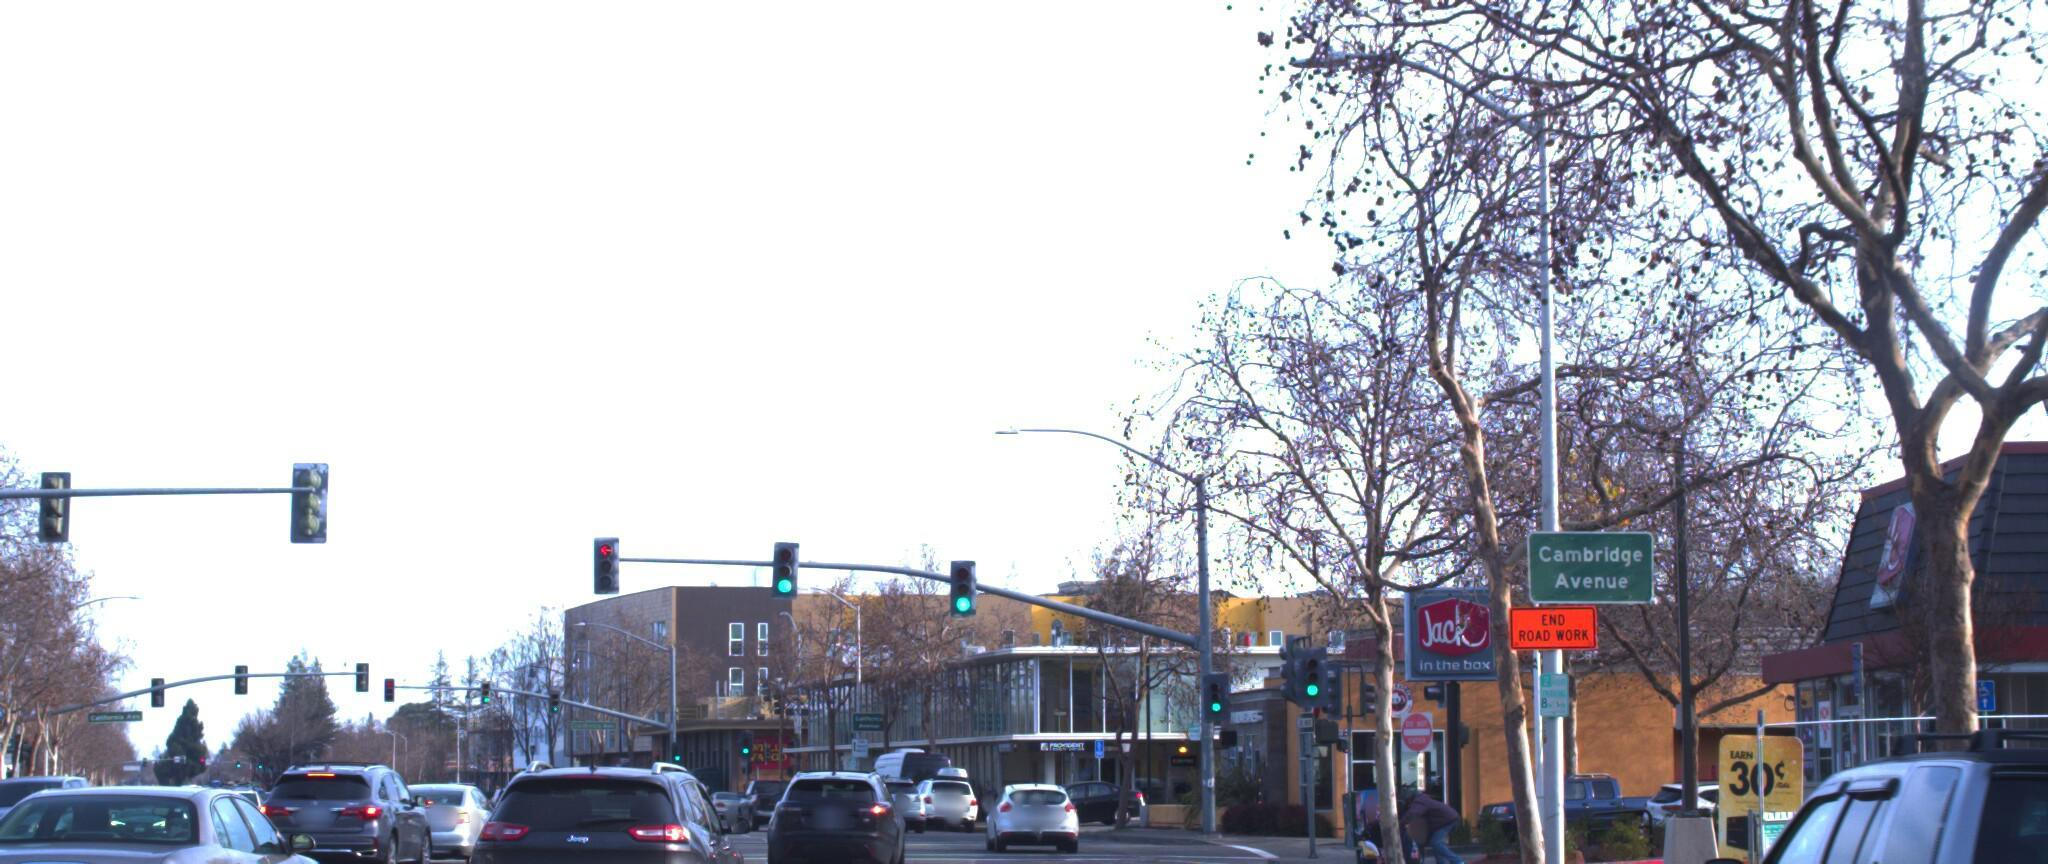car: (1643, 733, 2048, 864), (452, 754, 765, 864), (0, 769, 360, 864), (251, 761, 443, 864), (761, 754, 905, 864), (370, 773, 515, 864), (0, 767, 120, 864), (2000, 713, 2048, 864), (974, 770, 1061, 843), (2000, 794, 2048, 864)
